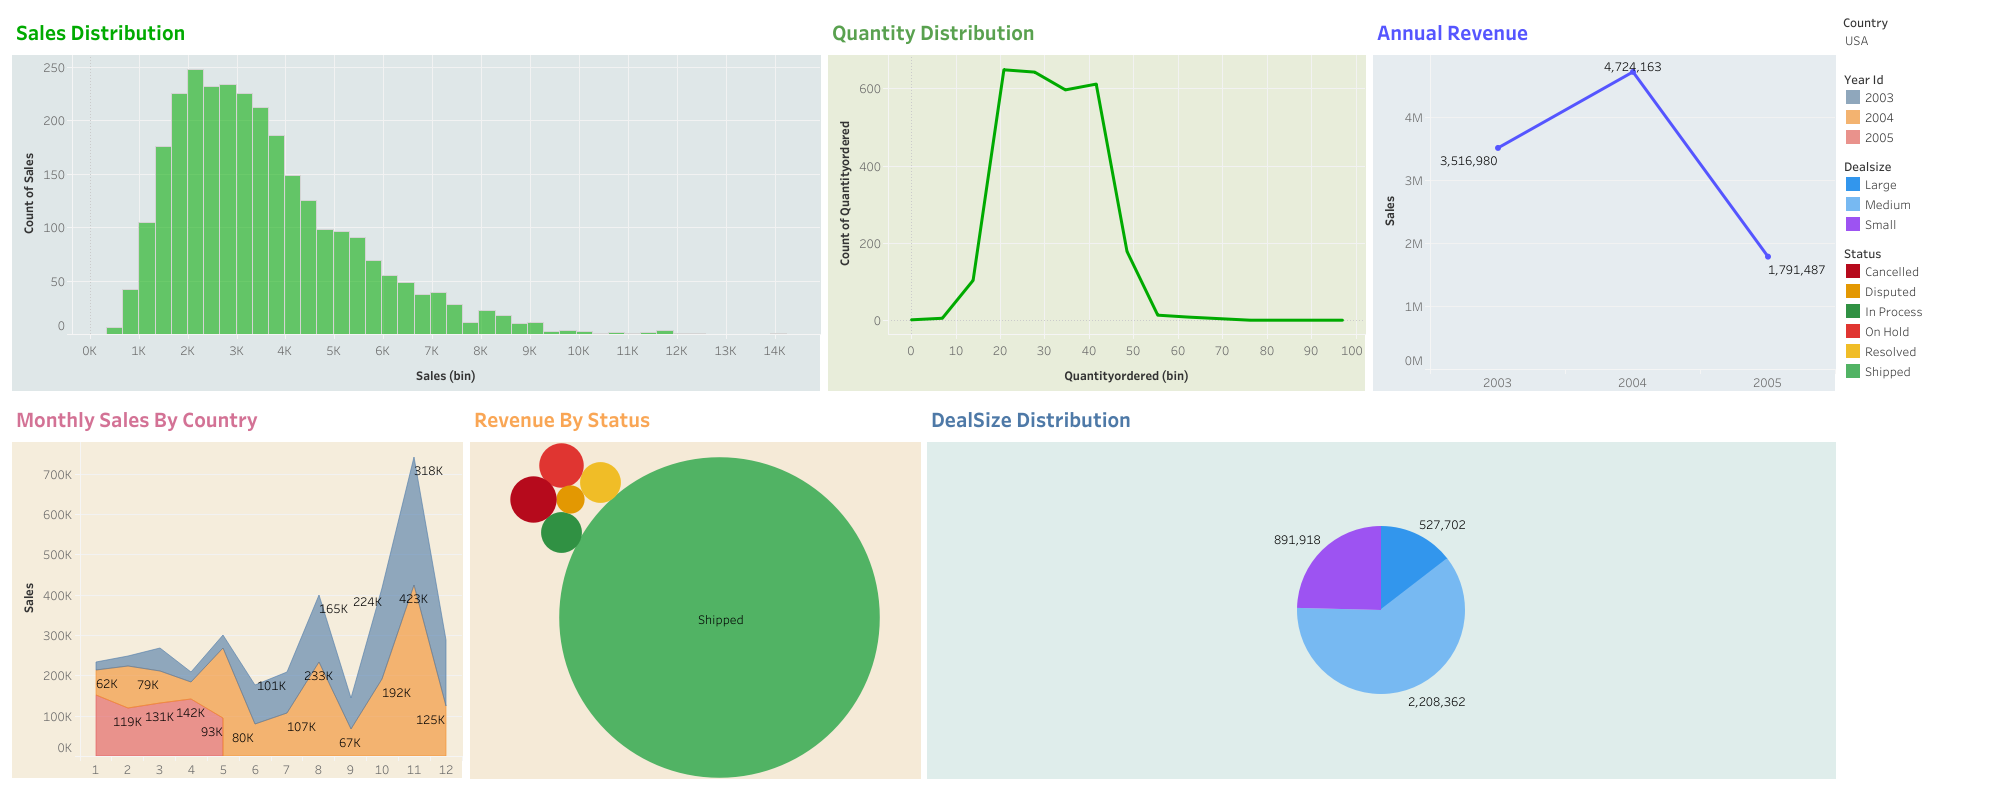

The page's visual inventory and layout, read from the dashboard file:
{"tool":"tableau","page":{"name":"Sales Dash 1","canvas":[1000,1000],"units":"permille","ordinal":0},"visuals":[{"type":"worksheet","title":"Sales Distribution","mark":"Automatic","rows":["SALES"],"cols":["Sales (bin)"],"box":[4.8,9.3,398.4,490.7]},{"type":"worksheet","title":"Quantity Distribution","mark":"Line","rows":["QUANTITYORDERED"],"cols":["Quantityordered (bin)"],"box":[403.2,9.3,266,490.7]},{"type":"worksheet","title":"Annual Revenue","mark":"Line","rows":["SALES"],"cols":["YEAR_ID"],"box":[669.2,9.3,229.5,490.7]},{"type":"filter","title":"Monthly Sales By Country","param":"[federated.15ubqtj0p8cz3t15ncrzg0wzk5p7].[none:COUNTRY:nk]","box":[898.6,9.3,96.6,70.9]},{"type":"legend","title":"Monthly Sales By Country","param":"[federated.15ubqtj0p8cz3t15ncrzg0wzk5p7].[none:YEAR_ID:ok]","box":[898.6,80.1,96.6,108]},{"type":"legend","title":"DealSize Distribution","param":"[federated.15ubqtj0p8cz3t15ncrzg0wzk5p7].[none:DEALSIZE:nk]","box":[898.6,188.2,96.6,108]},{"type":"legend","title":"Revenue By Status","param":"[federated.15ubqtj0p8cz3t15ncrzg0wzk5p7].[none:STATUS:nk]","box":[898.6,296.2,96.6,181.2]},{"type":"worksheet","title":"Monthly Sales By Country","mark":"Area","rows":["SALES"],"cols":["MONTH_ID"],"box":[4.8,500,223.5,490.7]},{"type":"worksheet","title":"Revenue By Status","mark":"Circle","box":[228.3,500,223.4,490.7]},{"type":"worksheet","title":"DealSize Distribution","mark":"Pie","box":[451.7,500,446.9,490.7]}]}

Visuals, with their boxes on the dashboard's canvas, which has no fixed pixel size, in thousandths of its width and height (x1, y1, x2, y2). These are canvas units, not pixel positions in the 2006x789 screenshot, which may show the page scaled, cropped or inside an application window:
"Sales Distribution" worksheet: x1=5 y1=9 x2=403 y2=500
"Quantity Distribution" worksheet (Line marks): x1=403 y1=9 x2=669 y2=500
"Annual Revenue" worksheet (Line marks): x1=669 y1=9 x2=899 y2=500
"Monthly Sales By Country" filter: x1=899 y1=9 x2=995 y2=80
"Monthly Sales By Country" legend: x1=899 y1=80 x2=995 y2=188
"DealSize Distribution" legend: x1=899 y1=188 x2=995 y2=296
"Revenue By Status" legend: x1=899 y1=296 x2=995 y2=477
"Monthly Sales By Country" worksheet (Area marks): x1=5 y1=500 x2=228 y2=991
"Revenue By Status" worksheet (Circle marks): x1=228 y1=500 x2=452 y2=991
"DealSize Distribution" worksheet (Pie marks): x1=452 y1=500 x2=899 y2=991
